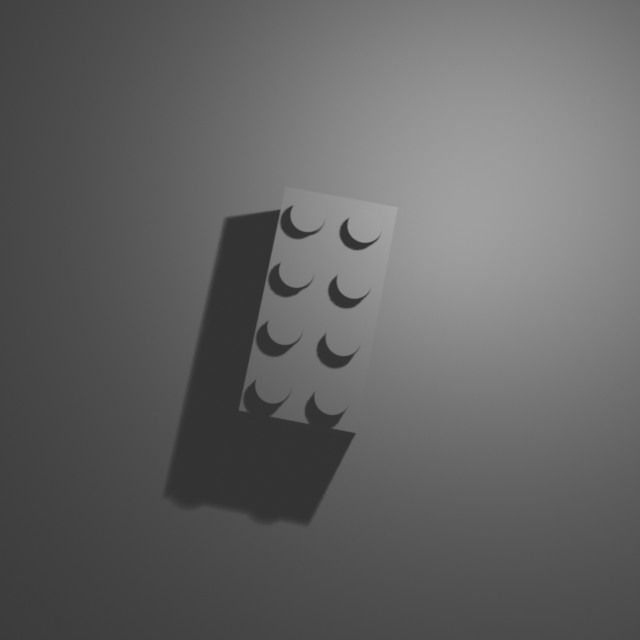lego_2x4: (238, 183, 399, 438)
